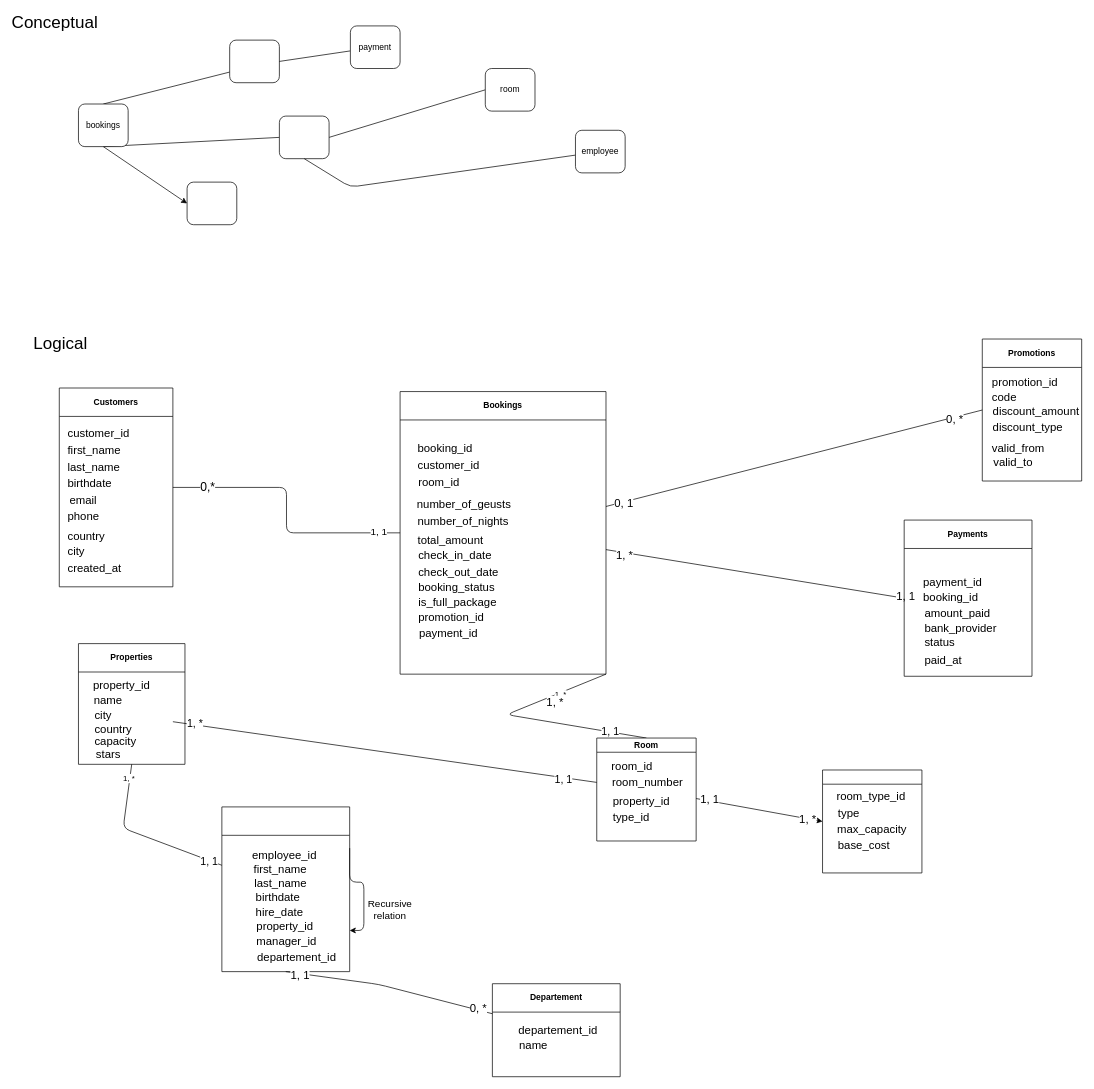
Image size: 1094x1089. Some labels were removed from this diagram. The shapes that lost their labels are listed below. From the top down, each one's centre as x and y in pixels, then its label:
At [254,61]: "customer".
At [304,137]: "property".
At [211,203]: "promotion".
At [872,821]: "Room_Type".
At [285,889]: "Employees".
